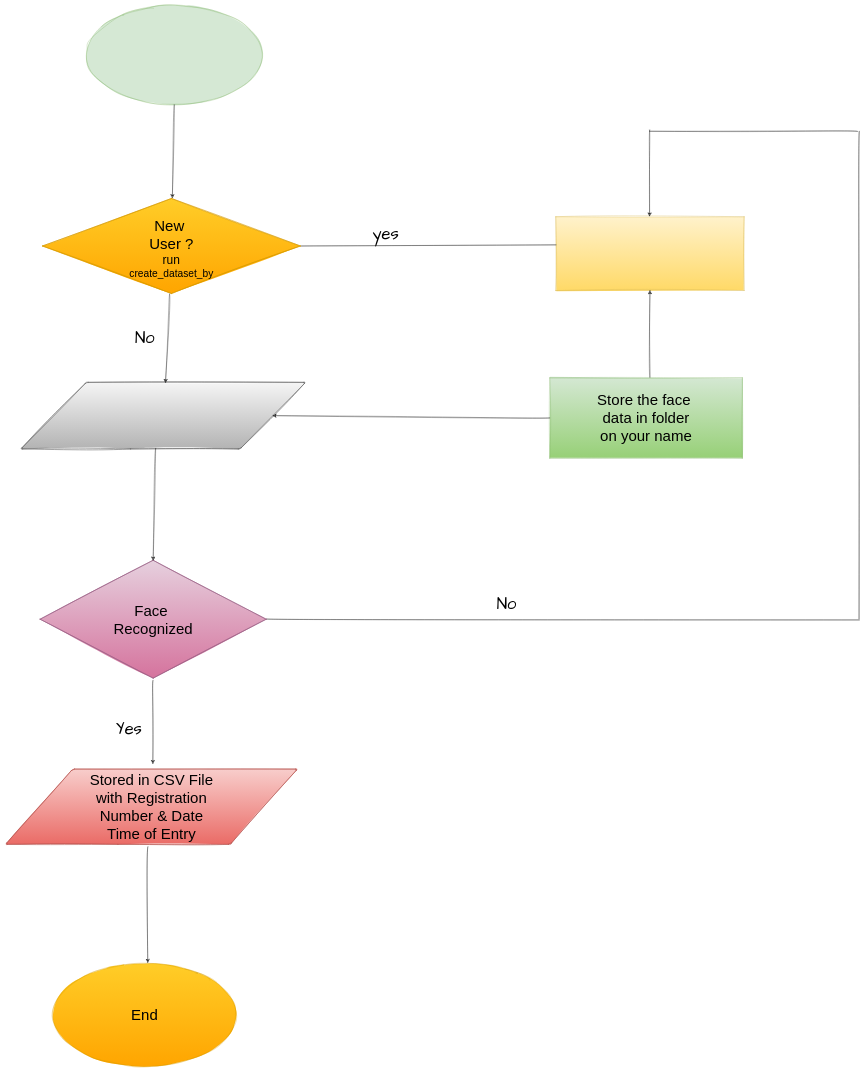
This 865x1072 diagram has some shape labels left out. The shapes that lost their labels are listed below. From the top down, each one's centre as x and y in pixels, then its label:
point (174, 55): Start
point (649, 253): Give Your Photograph
point (163, 415): Recognise the Face run face_recognise_by
